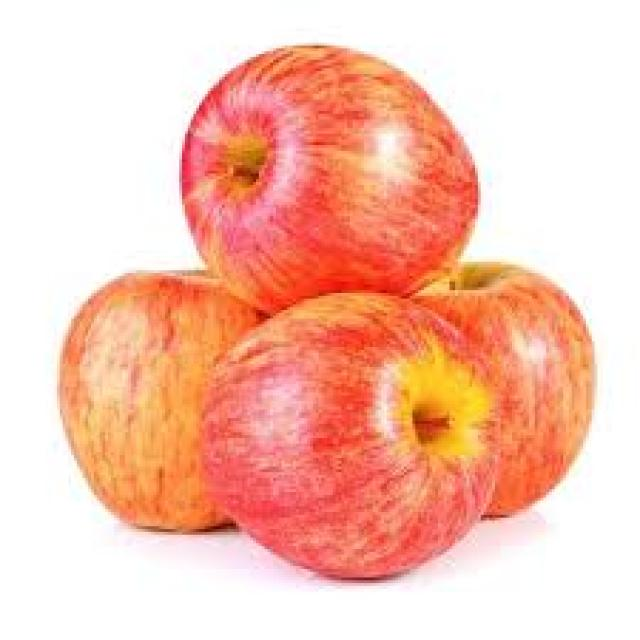apple: (204, 295, 505, 581), (181, 41, 480, 299)
